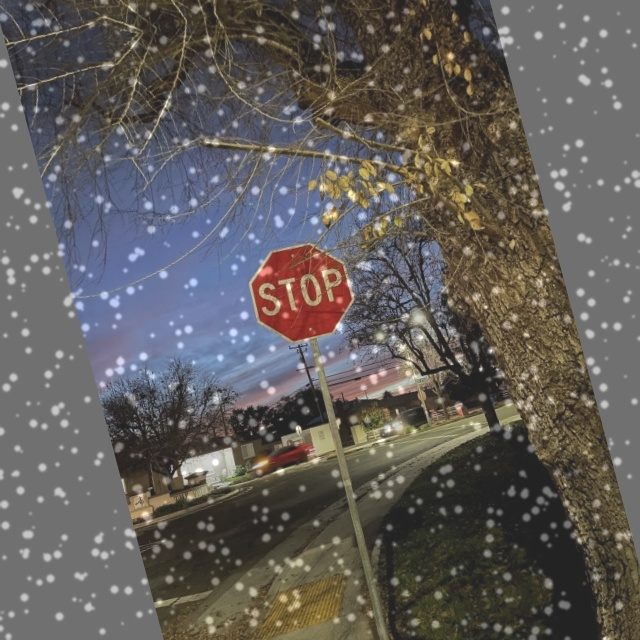Stop: (241, 234, 362, 354)
